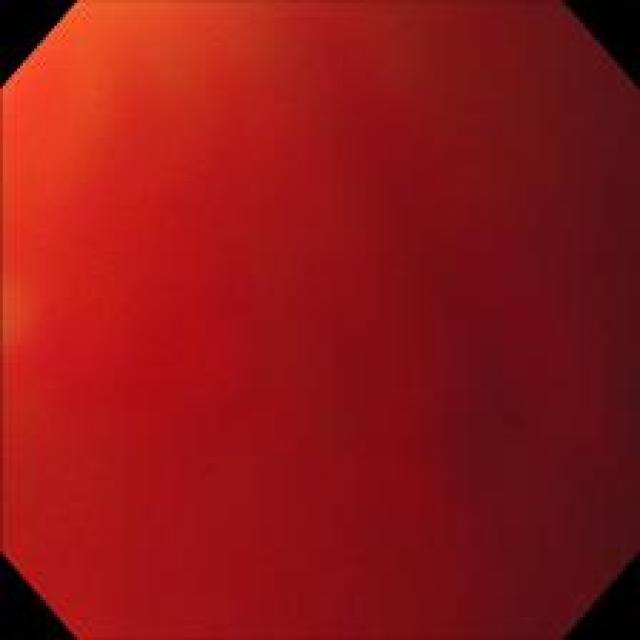color misalignment: (14, 16, 609, 630)
